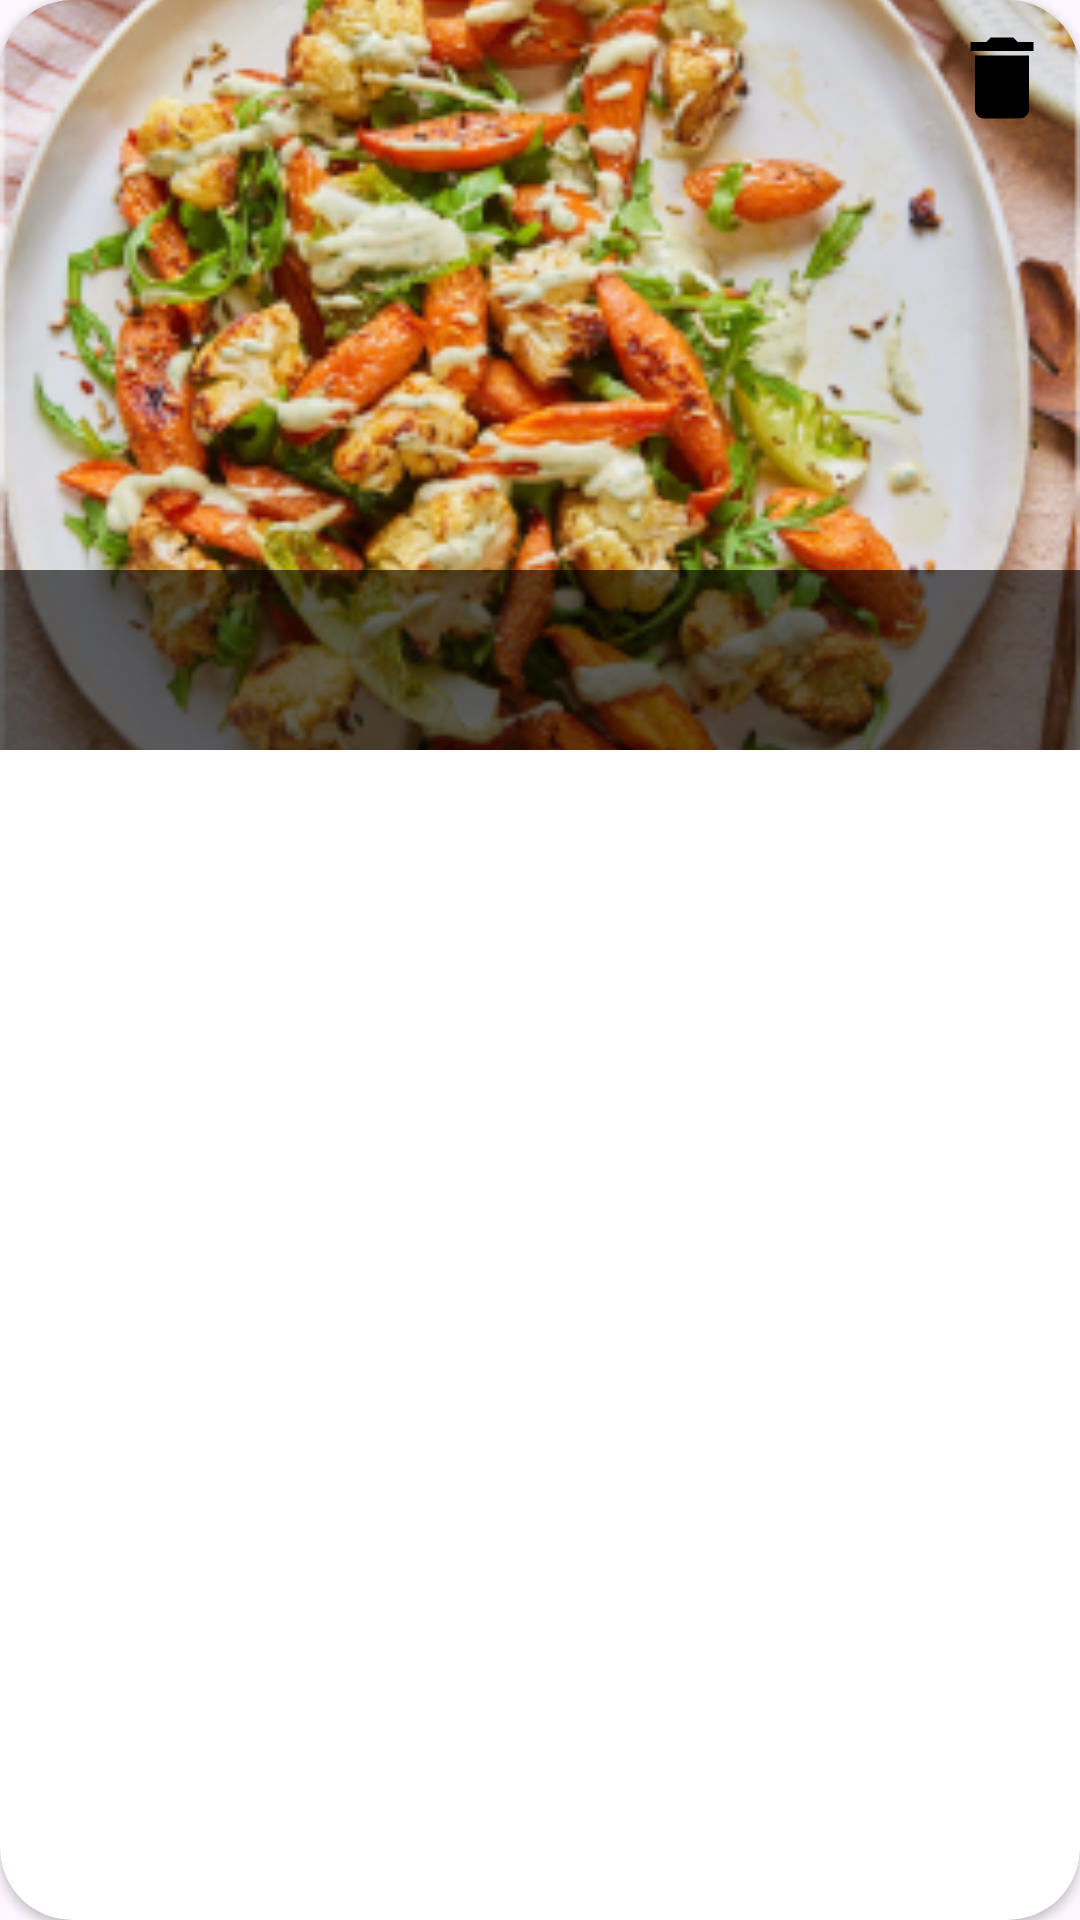

Icon click points for this 1080px x 1920px phone screenshot, format [x,y]:
delete: [1002,78]
